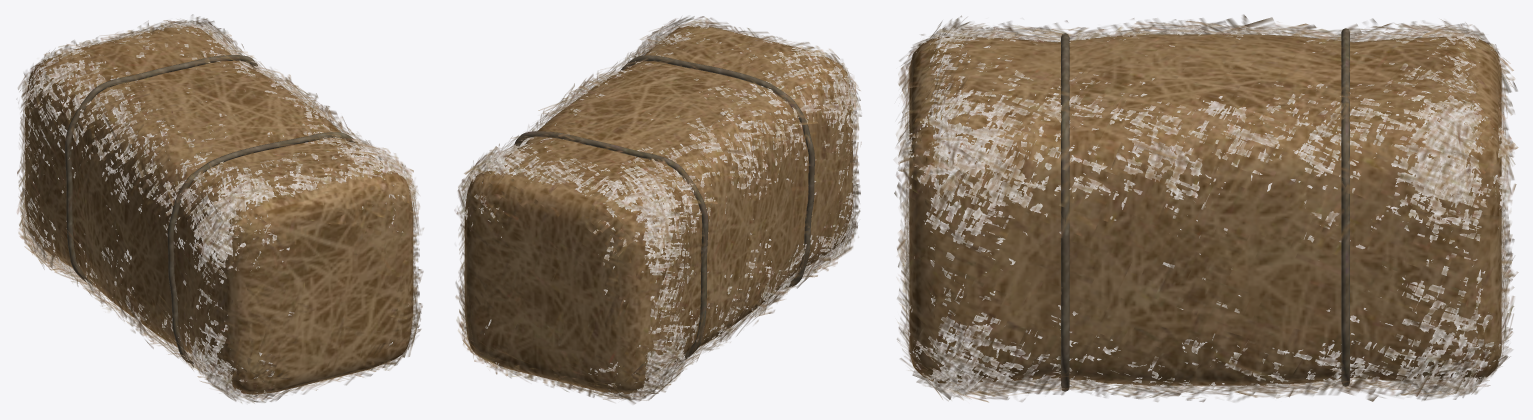
File: hay_bale.glb
The picture shows the model from 3 angles, left to right: view 1: azimuth 30°, elevation 25°; view 2: azimuth 150°, elevation 25°; view 3: azimuth 270°, elevation 25°; orthographic projection. The views are drawn at different scales.
Visible parts, largest first — view 1: Hay_bale_latest:Hay_Hay_bale_latest:Hay_bale1_0; view 2: Hay_bale_latest:Hay_Hay_bale_latest:Hay_bale1_0; view 3: Hay_bale_latest:Hay_Hay_bale_latest:Hay_bale1_0.
Boxes of the visible parts, x1,y1,x2,y2 form: Hay_bale_latest:Hay_Hay_bale_latest:Hay_bale1_0: (17, 14, 423, 403); Hay_bale_latest:Hay_Hay_bale_latest:Hay_bale1_0: (454, 16, 861, 403); Hay_bale_latest:Hay_Hay_bale_latest:Hay_bale1_0: (894, 14, 1518, 402).
Bounding box in the file's own units: 0.6568 × 0.6521 × 1.2.
Materials: 1 (1 with a texture image).
